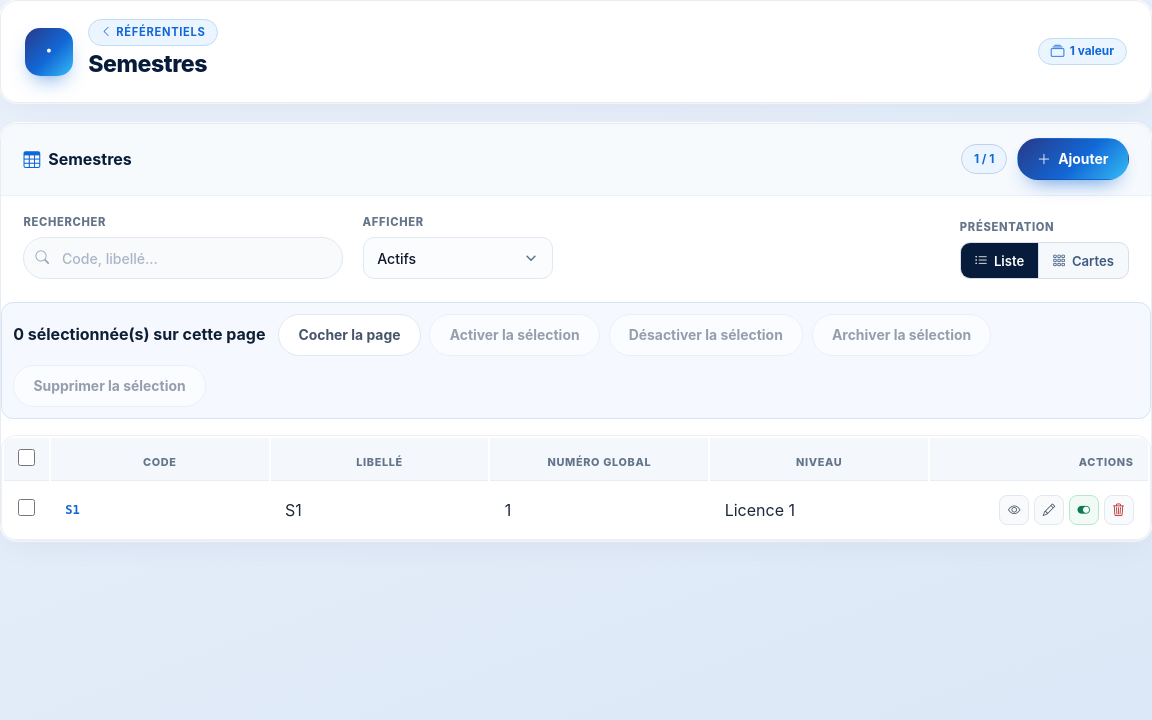
Test case: écran générique — semestres (sans colonne code) › le formulaire de création ne demande pas de code métier
The width and height of the screenshot is (1152, 720).
Expected: the text "Licence 1" is shown, [710,484,928,538]
Click the button "Ajouter".
click(1073, 159)  # box [1017,138,1129,180]
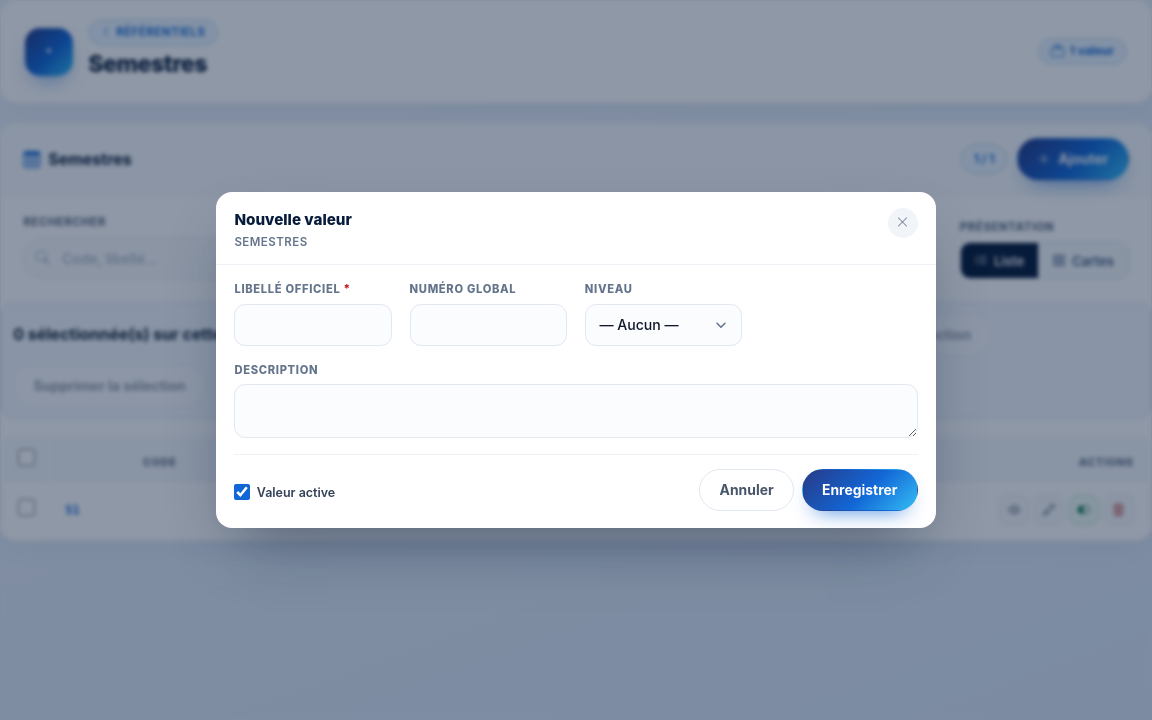
Result: the field labelled "Libellé officiel *" is shown at [234,304,392,346]
Result: the dropdown labelled "Niveau" is shown at [585,304,742,346]
Result: the number field labelled "Numéro global" is shown at [410,304,567,346]
